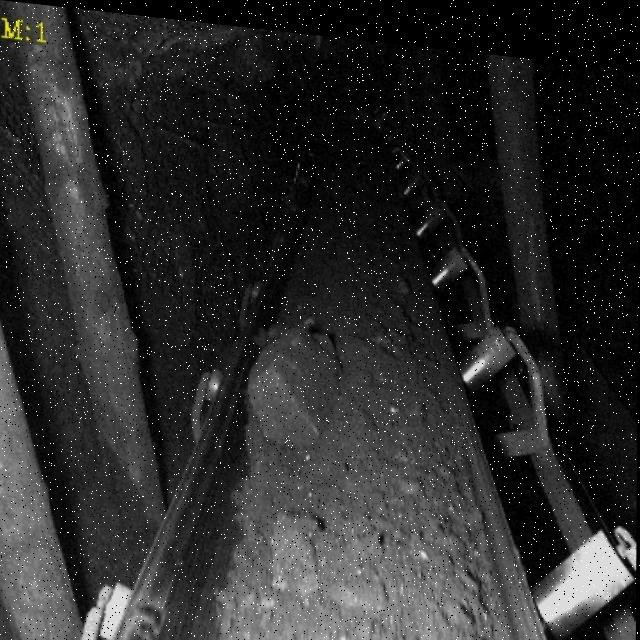large_sized_coal: (247, 313, 336, 442), (267, 503, 321, 594)
